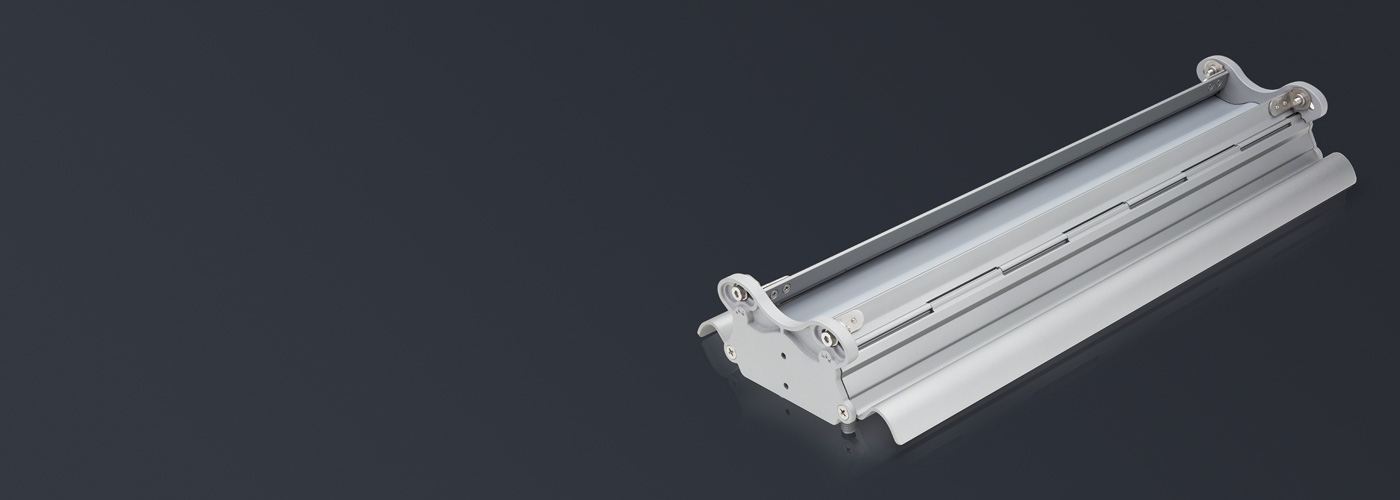sa: (648, 13, 1367, 475)
